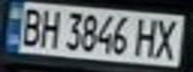3: (60, 8, 84, 52)
4: (97, 11, 118, 54)
6: (112, 14, 136, 56)
8: (78, 10, 100, 53)
B: (15, 3, 45, 47)
H: (133, 15, 163, 58), (36, 6, 63, 49)
X: (151, 16, 184, 61)
